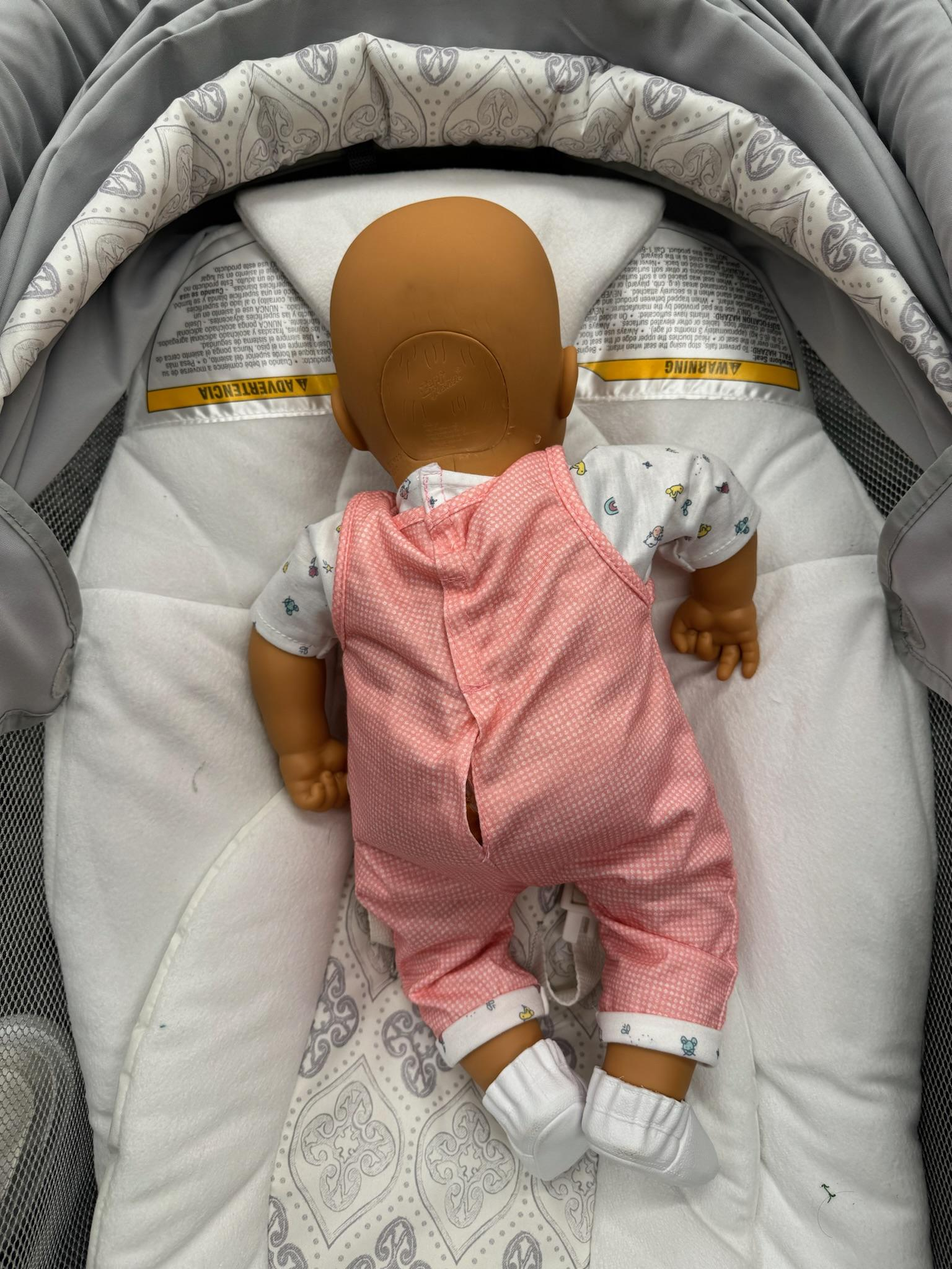baby: (236, 173, 823, 1210)
